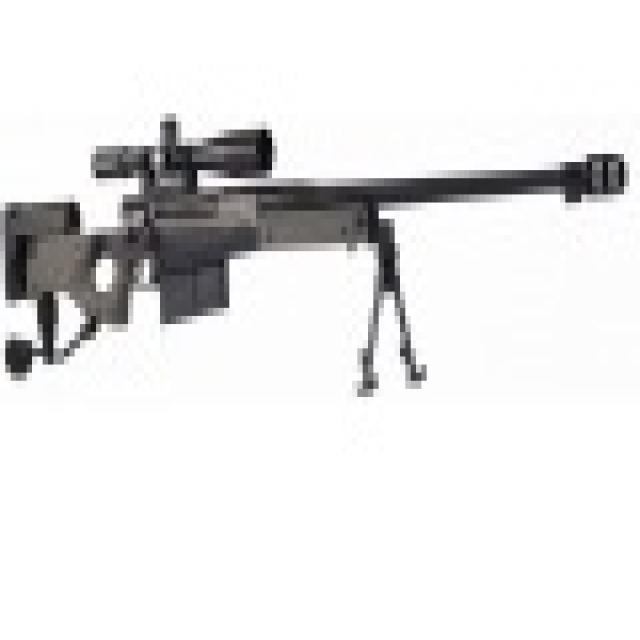Gun: (26, 73, 634, 370)
